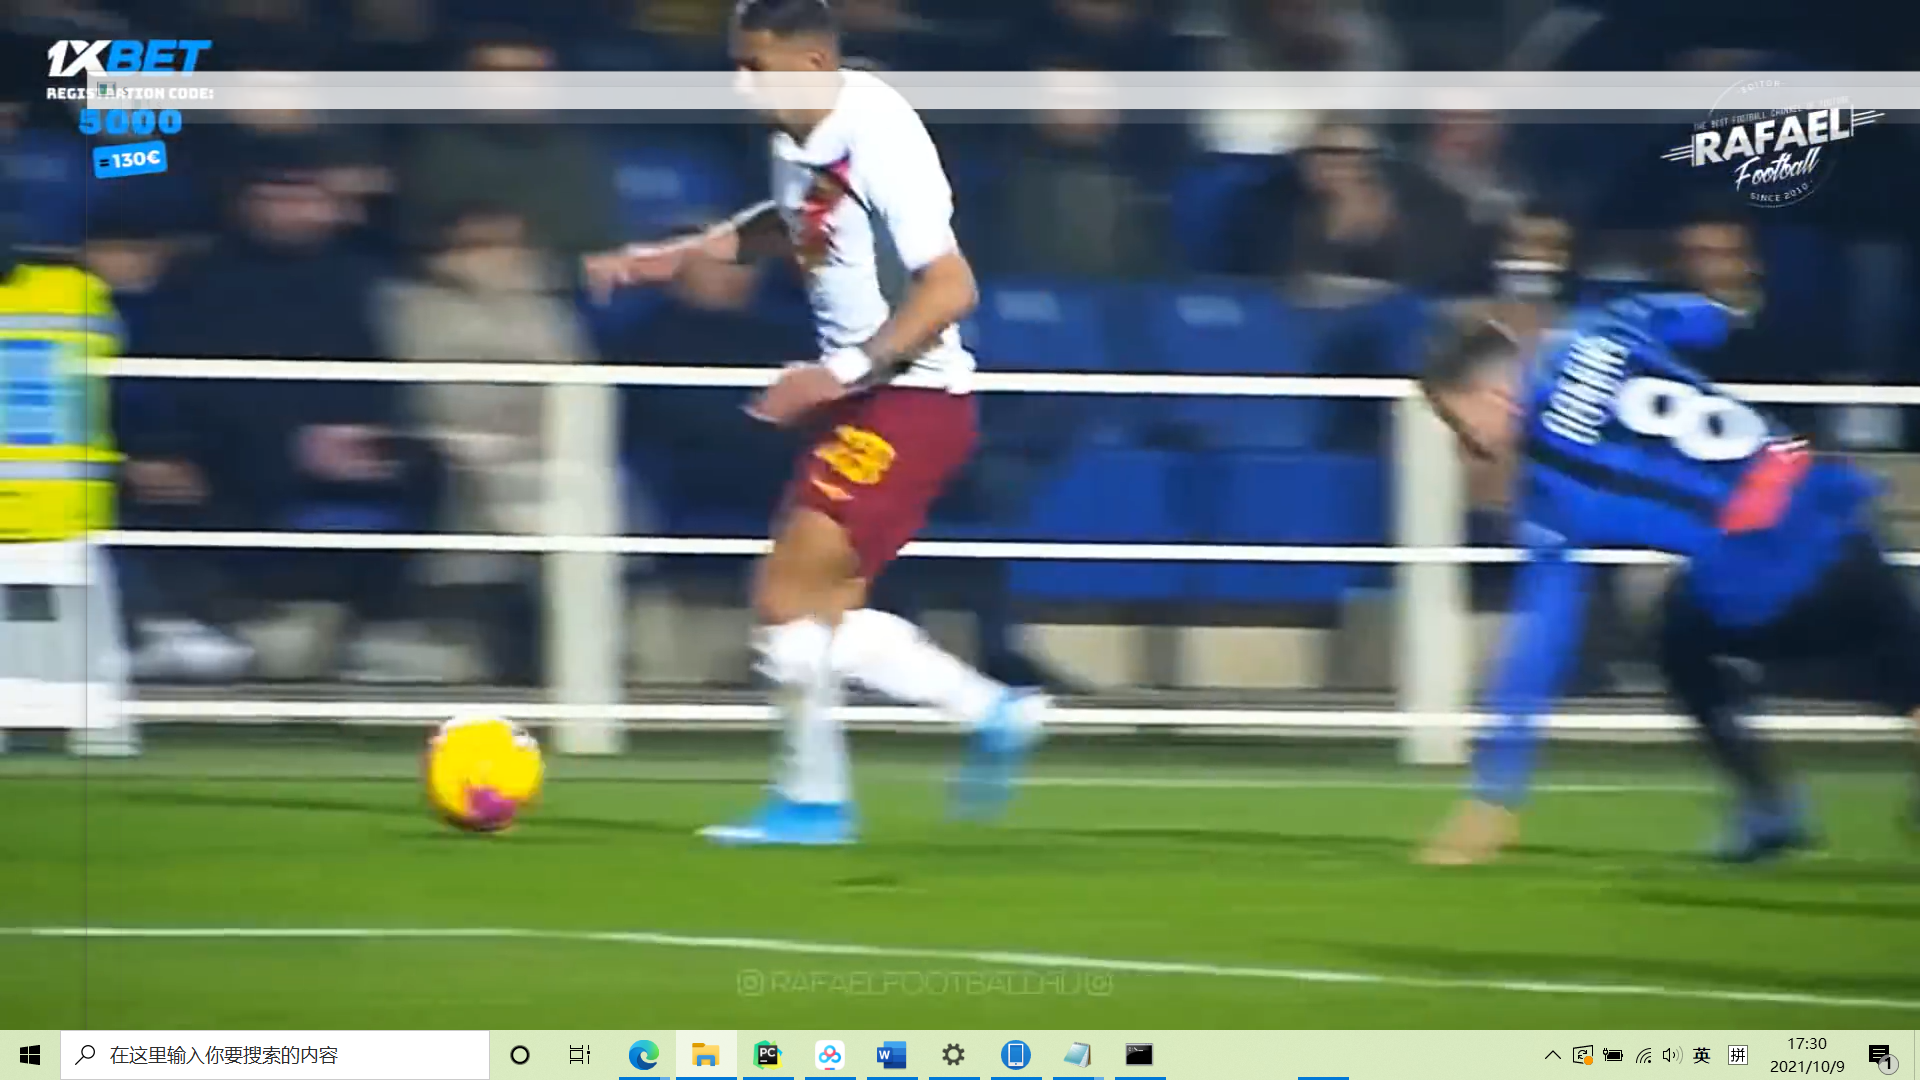ft: (417, 711, 545, 839)
